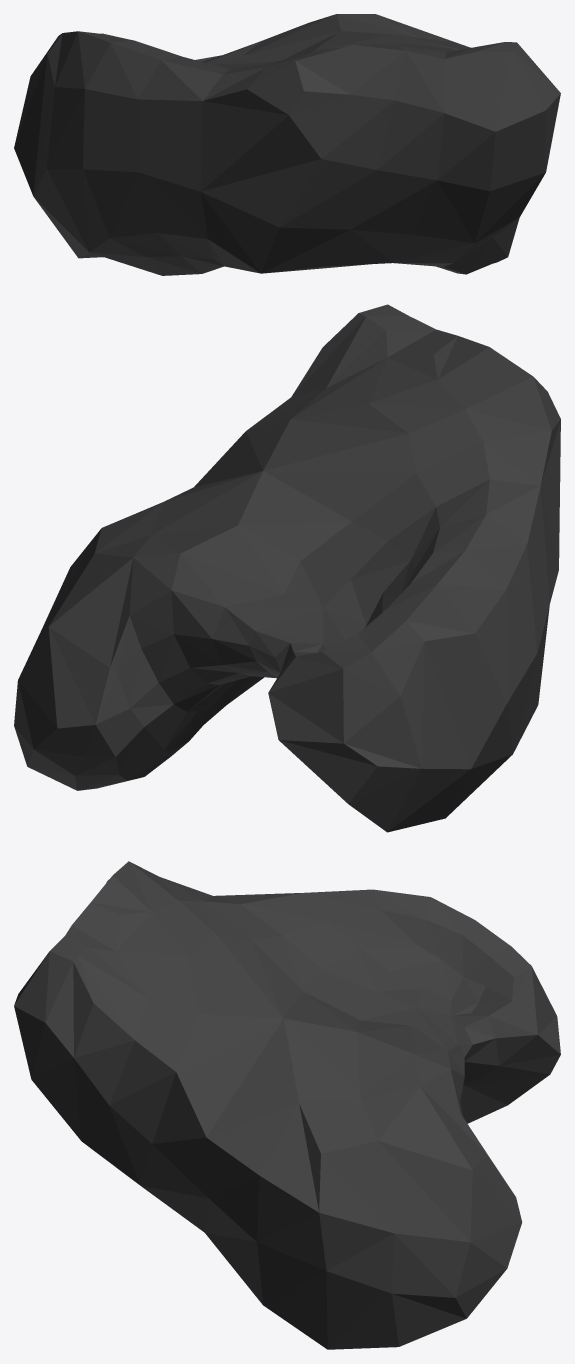
File: RHLfemur3.glb
3 views of the same model, one above another, from view 1: azimuth 30°, elevation 25°; view 2: azimuth 150°, elevation 25°; view 3: azimuth 270°, elevation 25° (orthographic). The views are drawn at different scales.
Visible parts, largest first — view 1: RHLfemur3; view 2: RHLfemur3; view 3: RHLfemur3.
Boxes of the visible parts, x1,y1,x2,y2 form: RHLfemur3: (14, 14, 560, 275); RHLfemur3: (14, 304, 560, 832); RHLfemur3: (14, 861, 560, 1349).
Size of the model in its own units: 21.7 by 16.74 by 23.16.
1 material, 1 textured.
